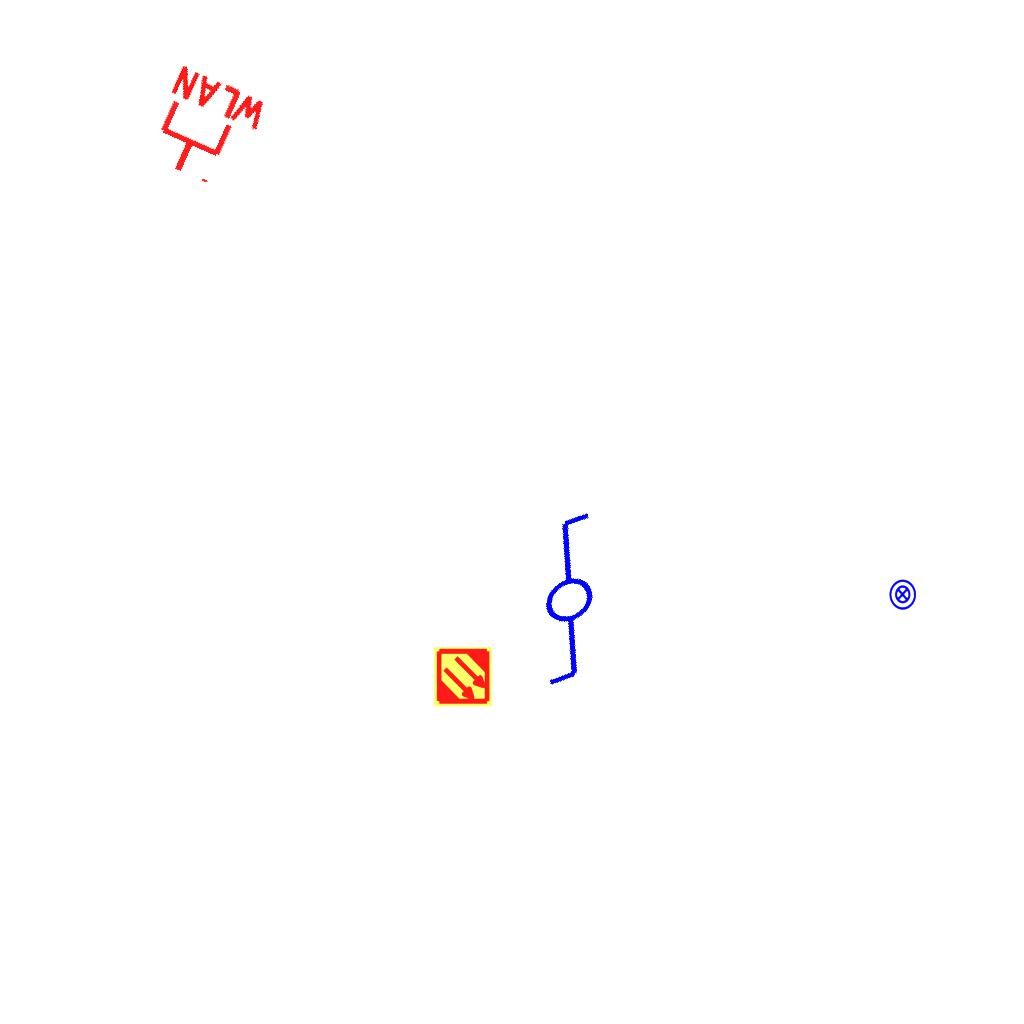ASR_Ansaugrauchmelder: (432, 646, 494, 708)
Taster_beleuchtet: (886, 578, 919, 611)
WLAN: (136, 60, 275, 200)
Wechselschalter: (455, 498, 668, 708)
